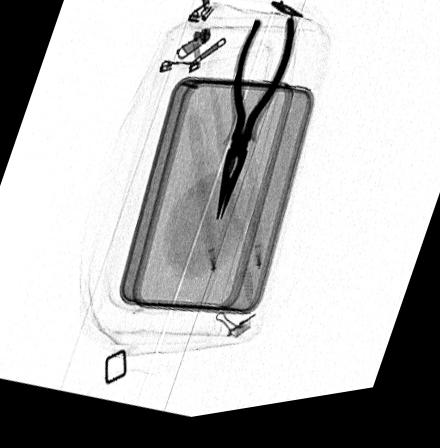Pliers: (216, 25, 297, 227)
